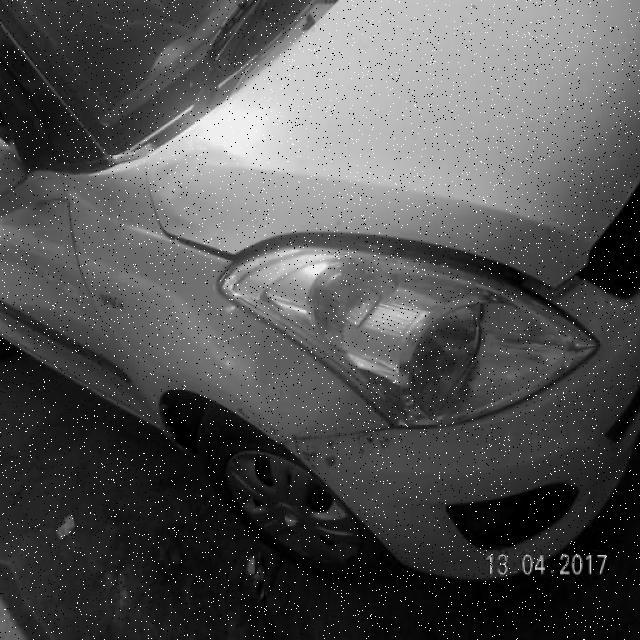car damage: (163, 227, 590, 296), (238, 404, 405, 477), (151, 144, 251, 227)
